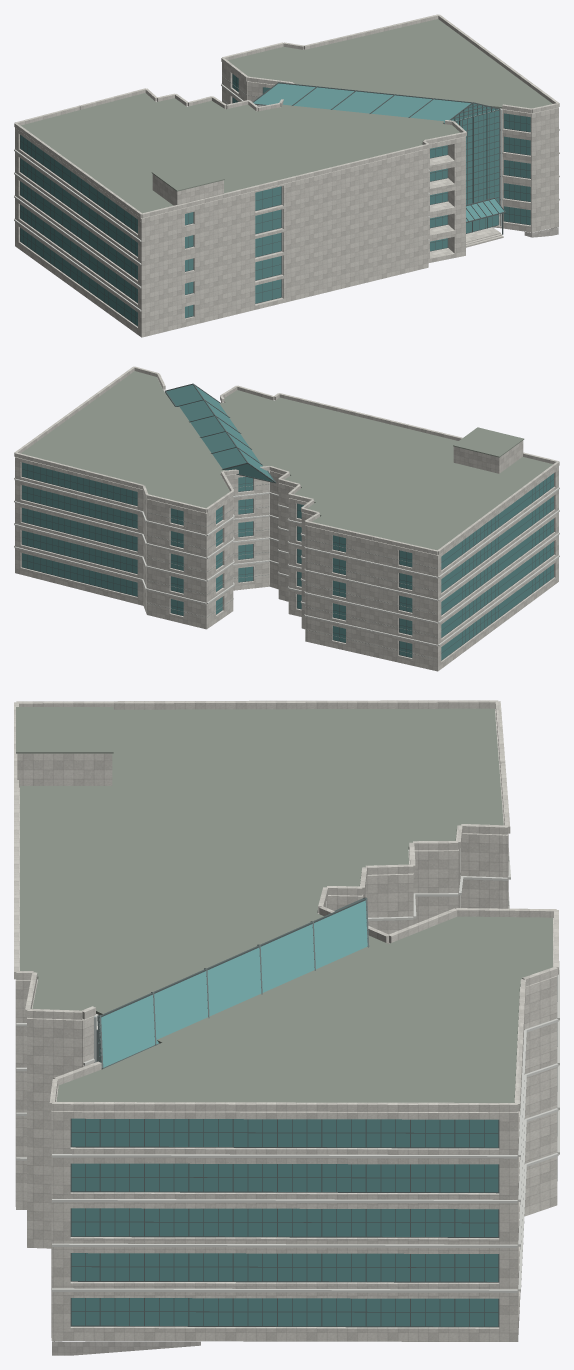
3 views of the same model, one above another, from view 1: azimuth 30°, elevation 25°; view 2: azimuth 150°, elevation 25°; view 3: azimuth 270°, elevation 25° (orthographic). The views are drawn at different scales.
Parts seen in each view (by area): view 1: library__paleStone, library__roofTop, library__tealglass, library__frame, library__lightTrim; view 2: library__paleStone, library__roofTop, library__tealglass, library__frame, library__lightTrim, library__stoneJoint; view 3: library__roofTop, library__paleStone, library__tealglass, library__frame, library__lightTrim, library__foundationSkirt.
Boxes of the visible parts, x1=… form: library__paleStone: x1=14, y1=14, x2=559, y2=337; library__roofTop: x1=21, y1=19, x2=552, y2=213; library__tealglass: x1=20, y1=74, x2=530, y2=325; library__frame: x1=20, y1=74, x2=530, y2=326; library__lightTrim: x1=14, y1=83, x2=559, y2=311; library__paleStone: x1=14, y1=366, x2=559, y2=671; library__roofTop: x1=21, y1=371, x2=552, y2=550; library__tealglass: x1=22, y1=384, x2=553, y2=660; library__frame: x1=21, y1=383, x2=554, y2=660; library__lightTrim: x1=14, y1=471, x2=559, y2=646; library__stoneJoint: x1=147, y1=484, x2=437, y2=659; library__roofTop: x1=16, y1=707, x2=552, y2=1102; library__paleStone: x1=14, y1=700, x2=558, y2=1341; library__tealglass: x1=71, y1=900, x2=498, y2=1326; library__frame: x1=70, y1=897, x2=499, y2=1327; library__lightTrim: x1=16, y1=848, x2=559, y2=1292; library__foundationSkirt: x1=52, y1=1341, x2=200, y2=1355.
Size of the model in its own units: 75.77 by 24.5 by 43.1.
Materials: 8 (2 with a texture image).
